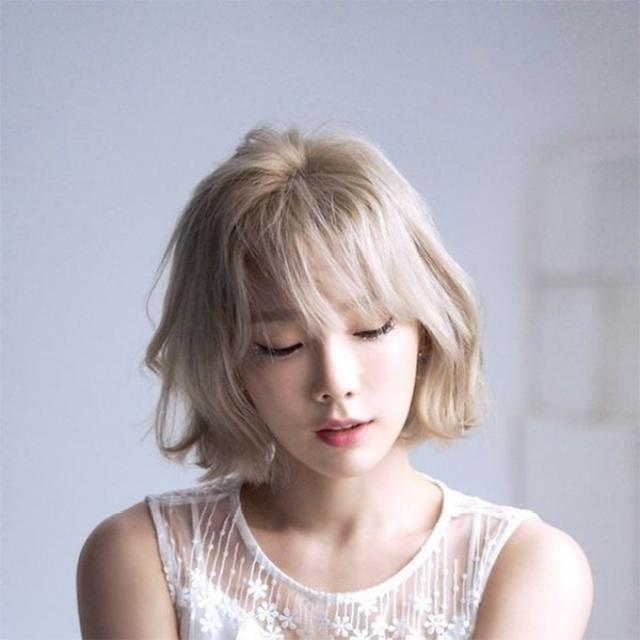Nonhelmet: (150, 123, 476, 488)
